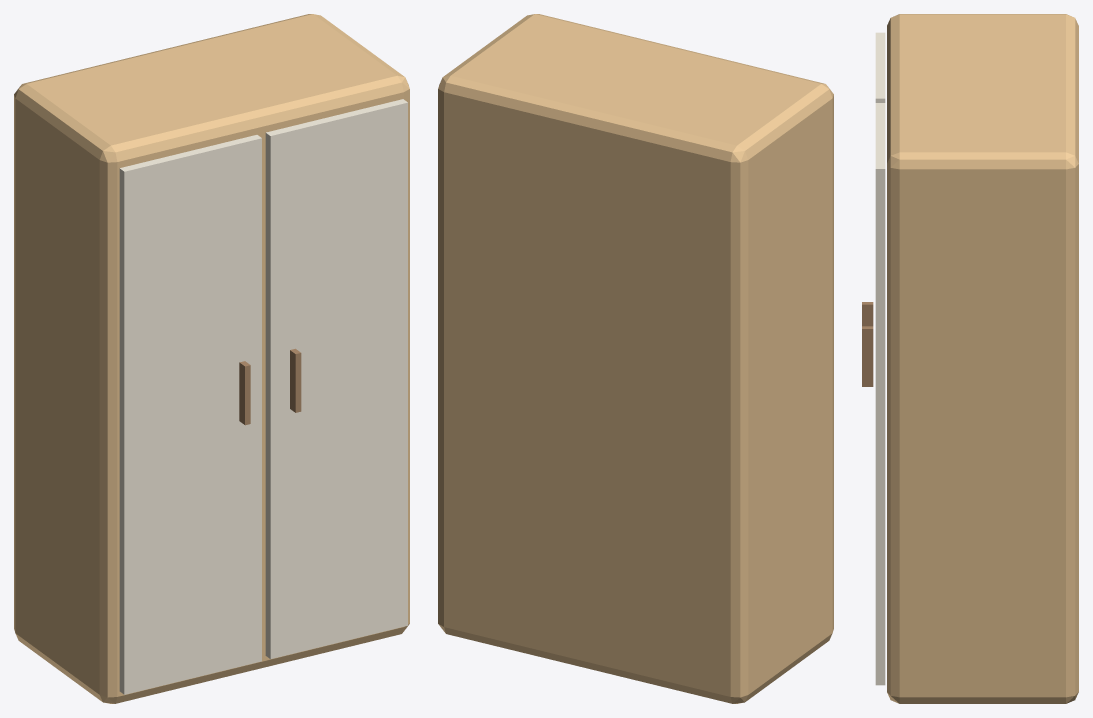
Rendered from cozy-home-interiors-wardrobe-50e05964.glb.
3 renders of one model, left to right at view 1: azimuth 30°, elevation 25°; view 2: azimuth 150°, elevation 25°; view 3: azimuth 270°, elevation 25°, orthographic.
Parts seen in each view (by area): view 1: wardrobe; view 2: wardrobe; view 3: wardrobe.
Boxes of the visible parts, x1,y1,x2,y2 form: wardrobe: (14, 14, 409, 703); wardrobe: (438, 14, 833, 703); wardrobe: (862, 14, 1078, 703).
Bounding box in the file's own units: 1.1 × 1.9 × 0.6775.
